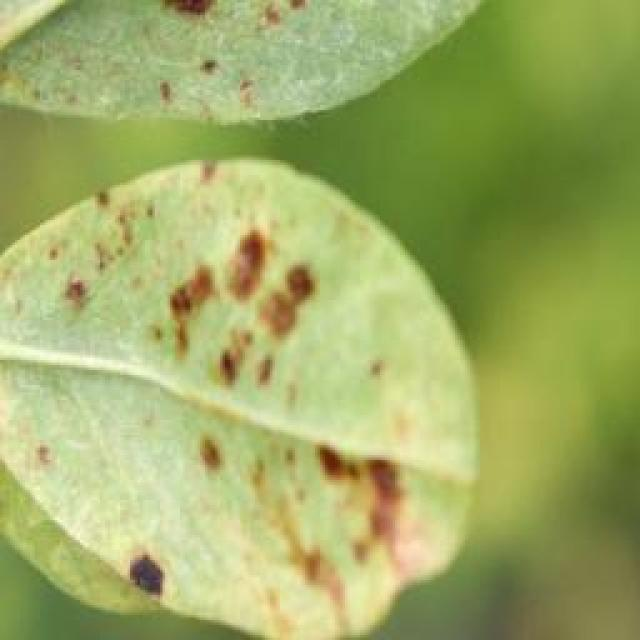Whitefly: (0, 0, 468, 610)
